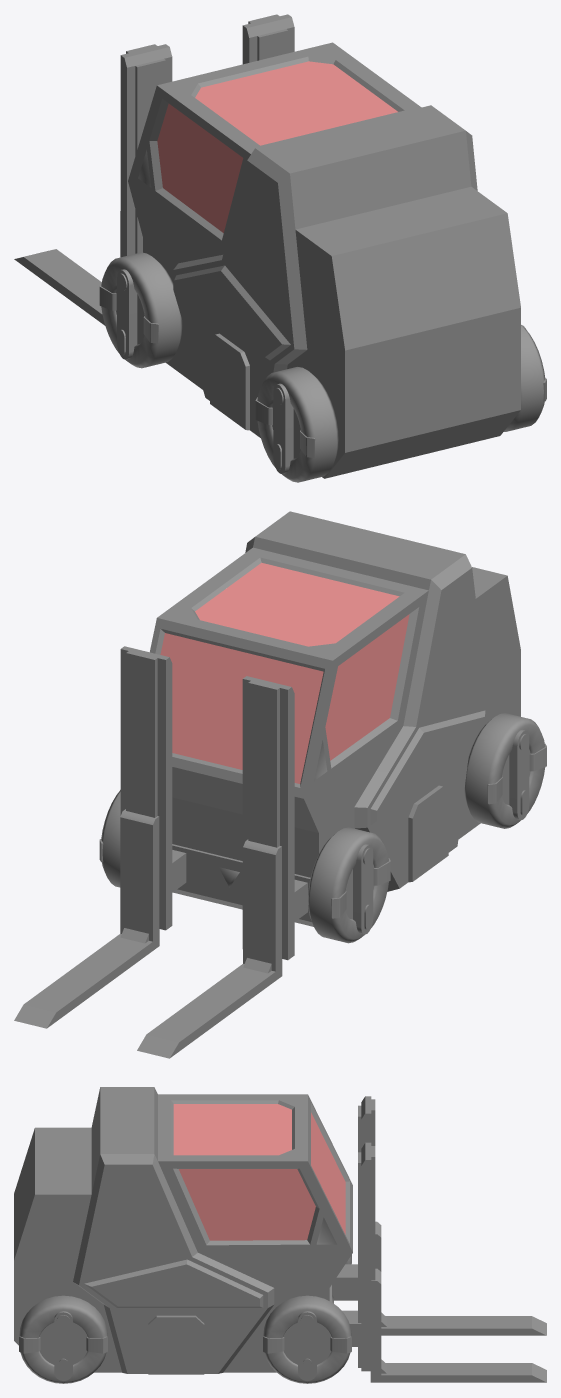
Rendered from S_Envi_Umeda_Aspot_forklift_01.gltf.
3 renders of one model, top to bottom at view 1: azimuth 30°, elevation 25°; view 2: azimuth 150°, elevation 25°; view 3: azimuth 270°, elevation 25°, orthographic. The views are drawn at different scales.
Visible parts, largest first — view 1: S_Envi_Umeda_Aspot_forklift_01; view 2: S_Envi_Umeda_Aspot_forklift_01; view 3: S_Envi_Umeda_Aspot_forklift_01.
Part boxes in pixels (<box>): S_Envi_Umeda_Aspot_forklift_01: <box>14,14,546,482</box>; S_Envi_Umeda_Aspot_forklift_01: <box>14,511,546,1058</box>; S_Envi_Umeda_Aspot_forklift_01: <box>14,1087,546,1383</box>.
Bounding box in the file's own units: 1.95 × 2.25 × 4.68.
